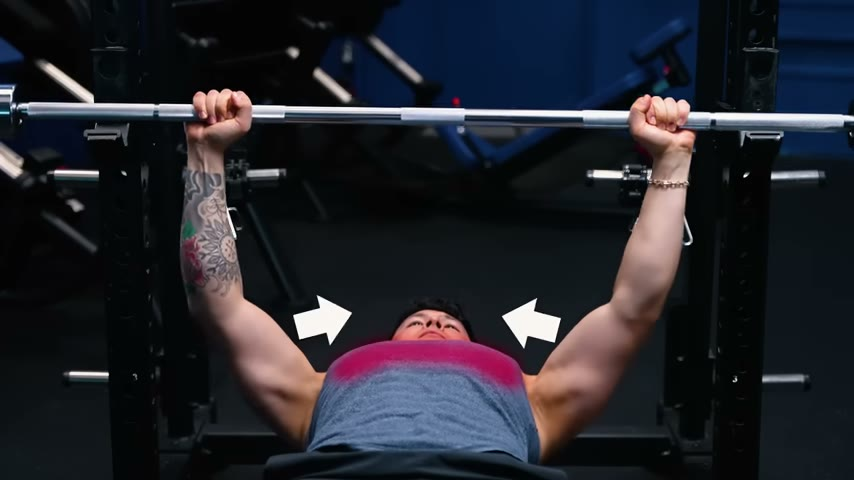barbell_plate_side: (0, 5, 121, 475)
